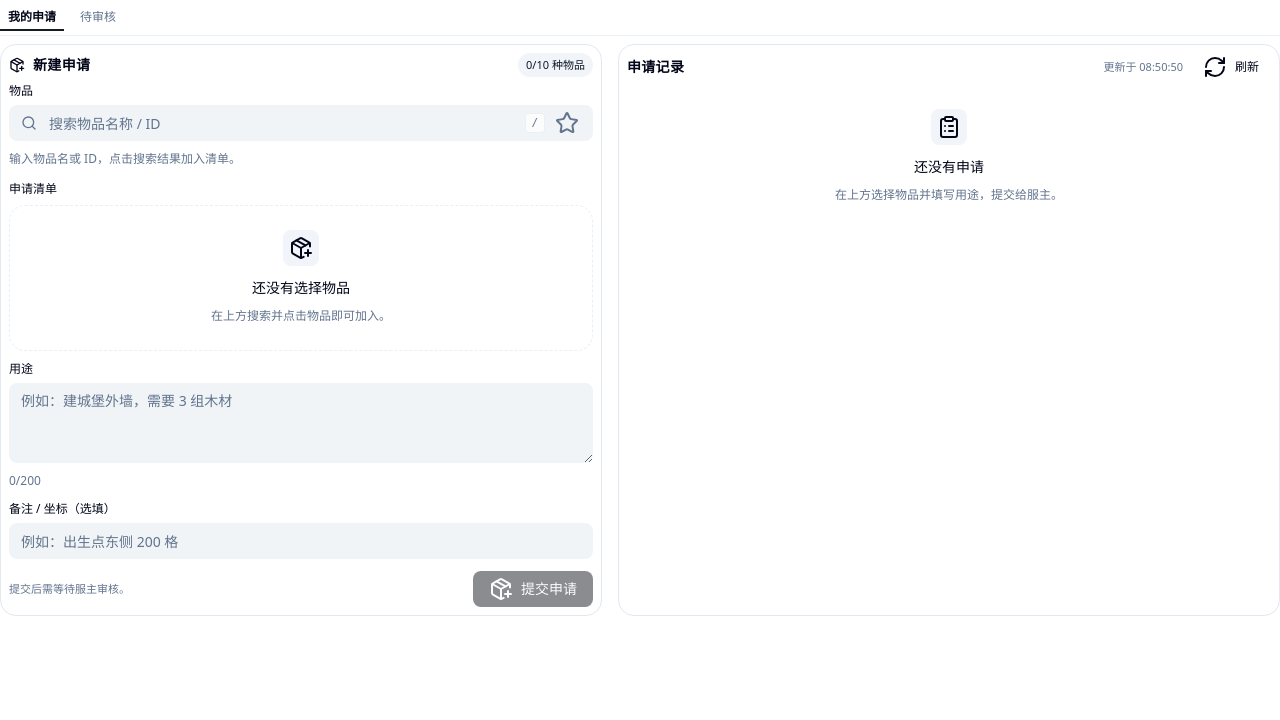
it: RequisitionPage › 收藏为空时 popover 给出怎么收藏的说明
Click the button named "物品收藏". click: (567, 123)
box: [553,109,581,137]
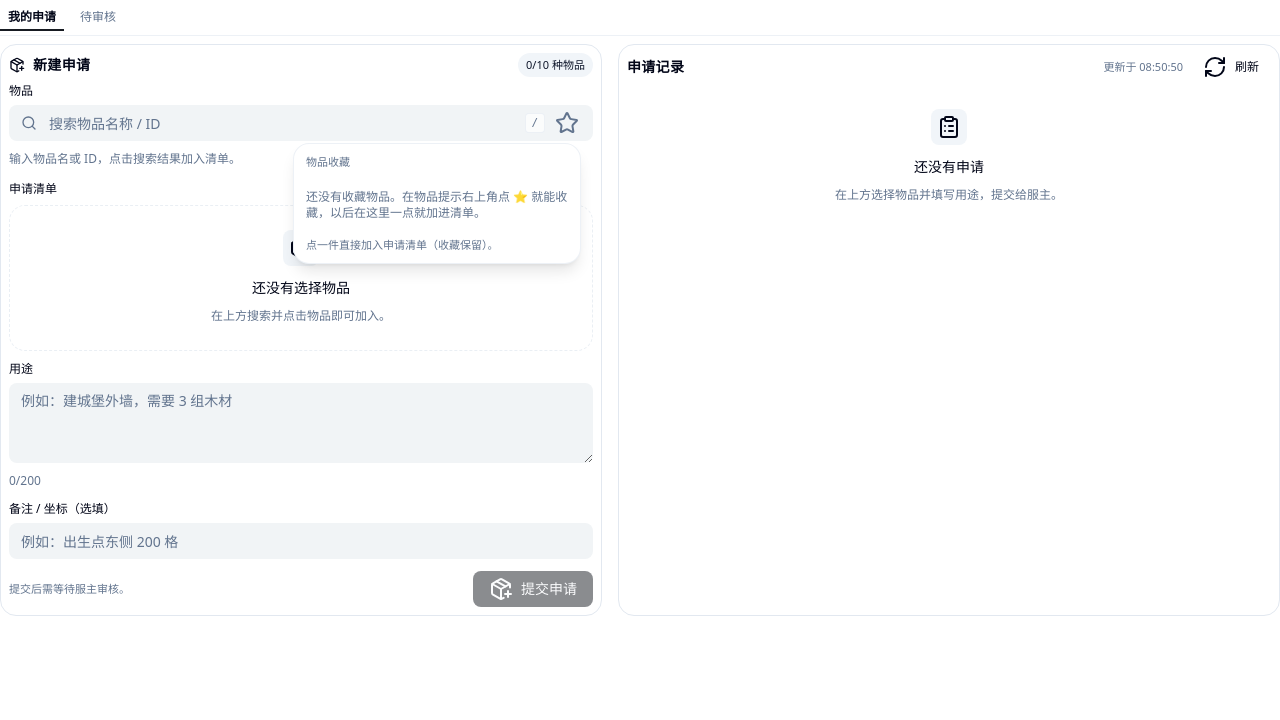
Expected: the text "还没有收藏物品。在物品提示右上角点 ⭐ 就能收藏，以后在这里一点就加进清单。" is shown, [306,188,567,220]
